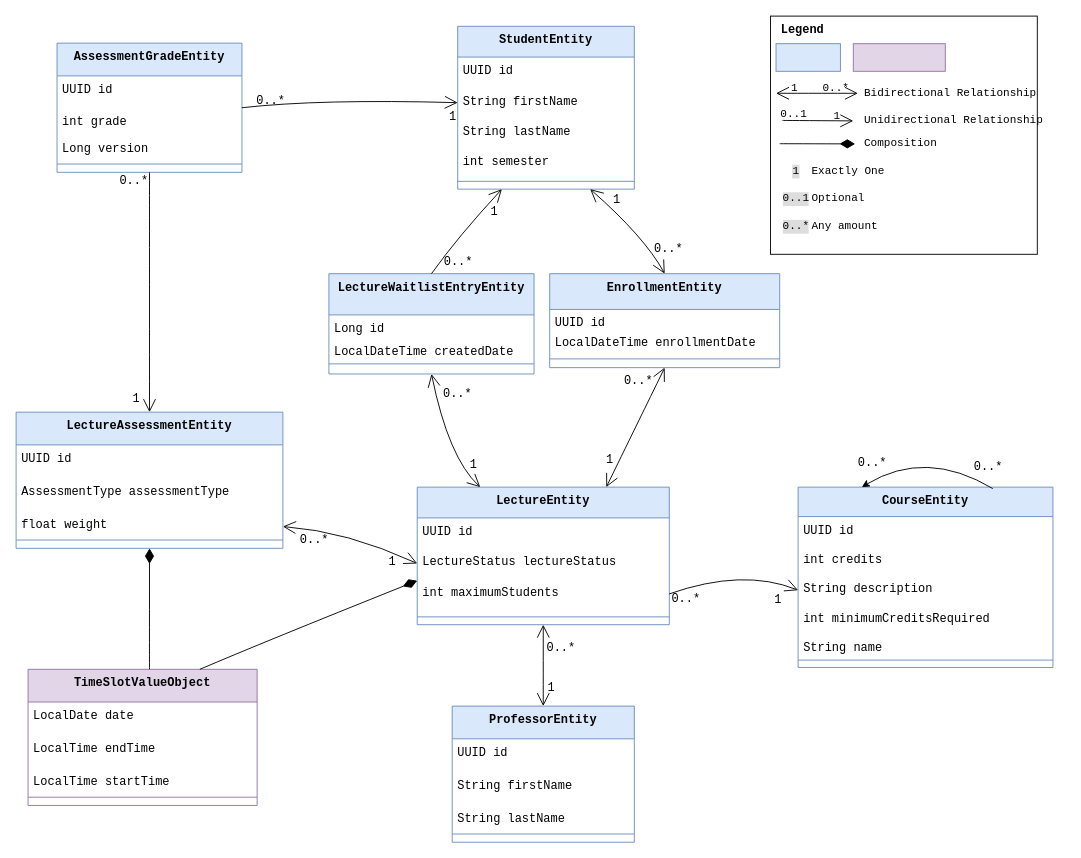
This 1081x858 diagram has some shape labels left out. The centre of each missing label's shape, as x and y in pixels:
Entity: (x=807, y=57)
Value Object: (x=898, y=57)
